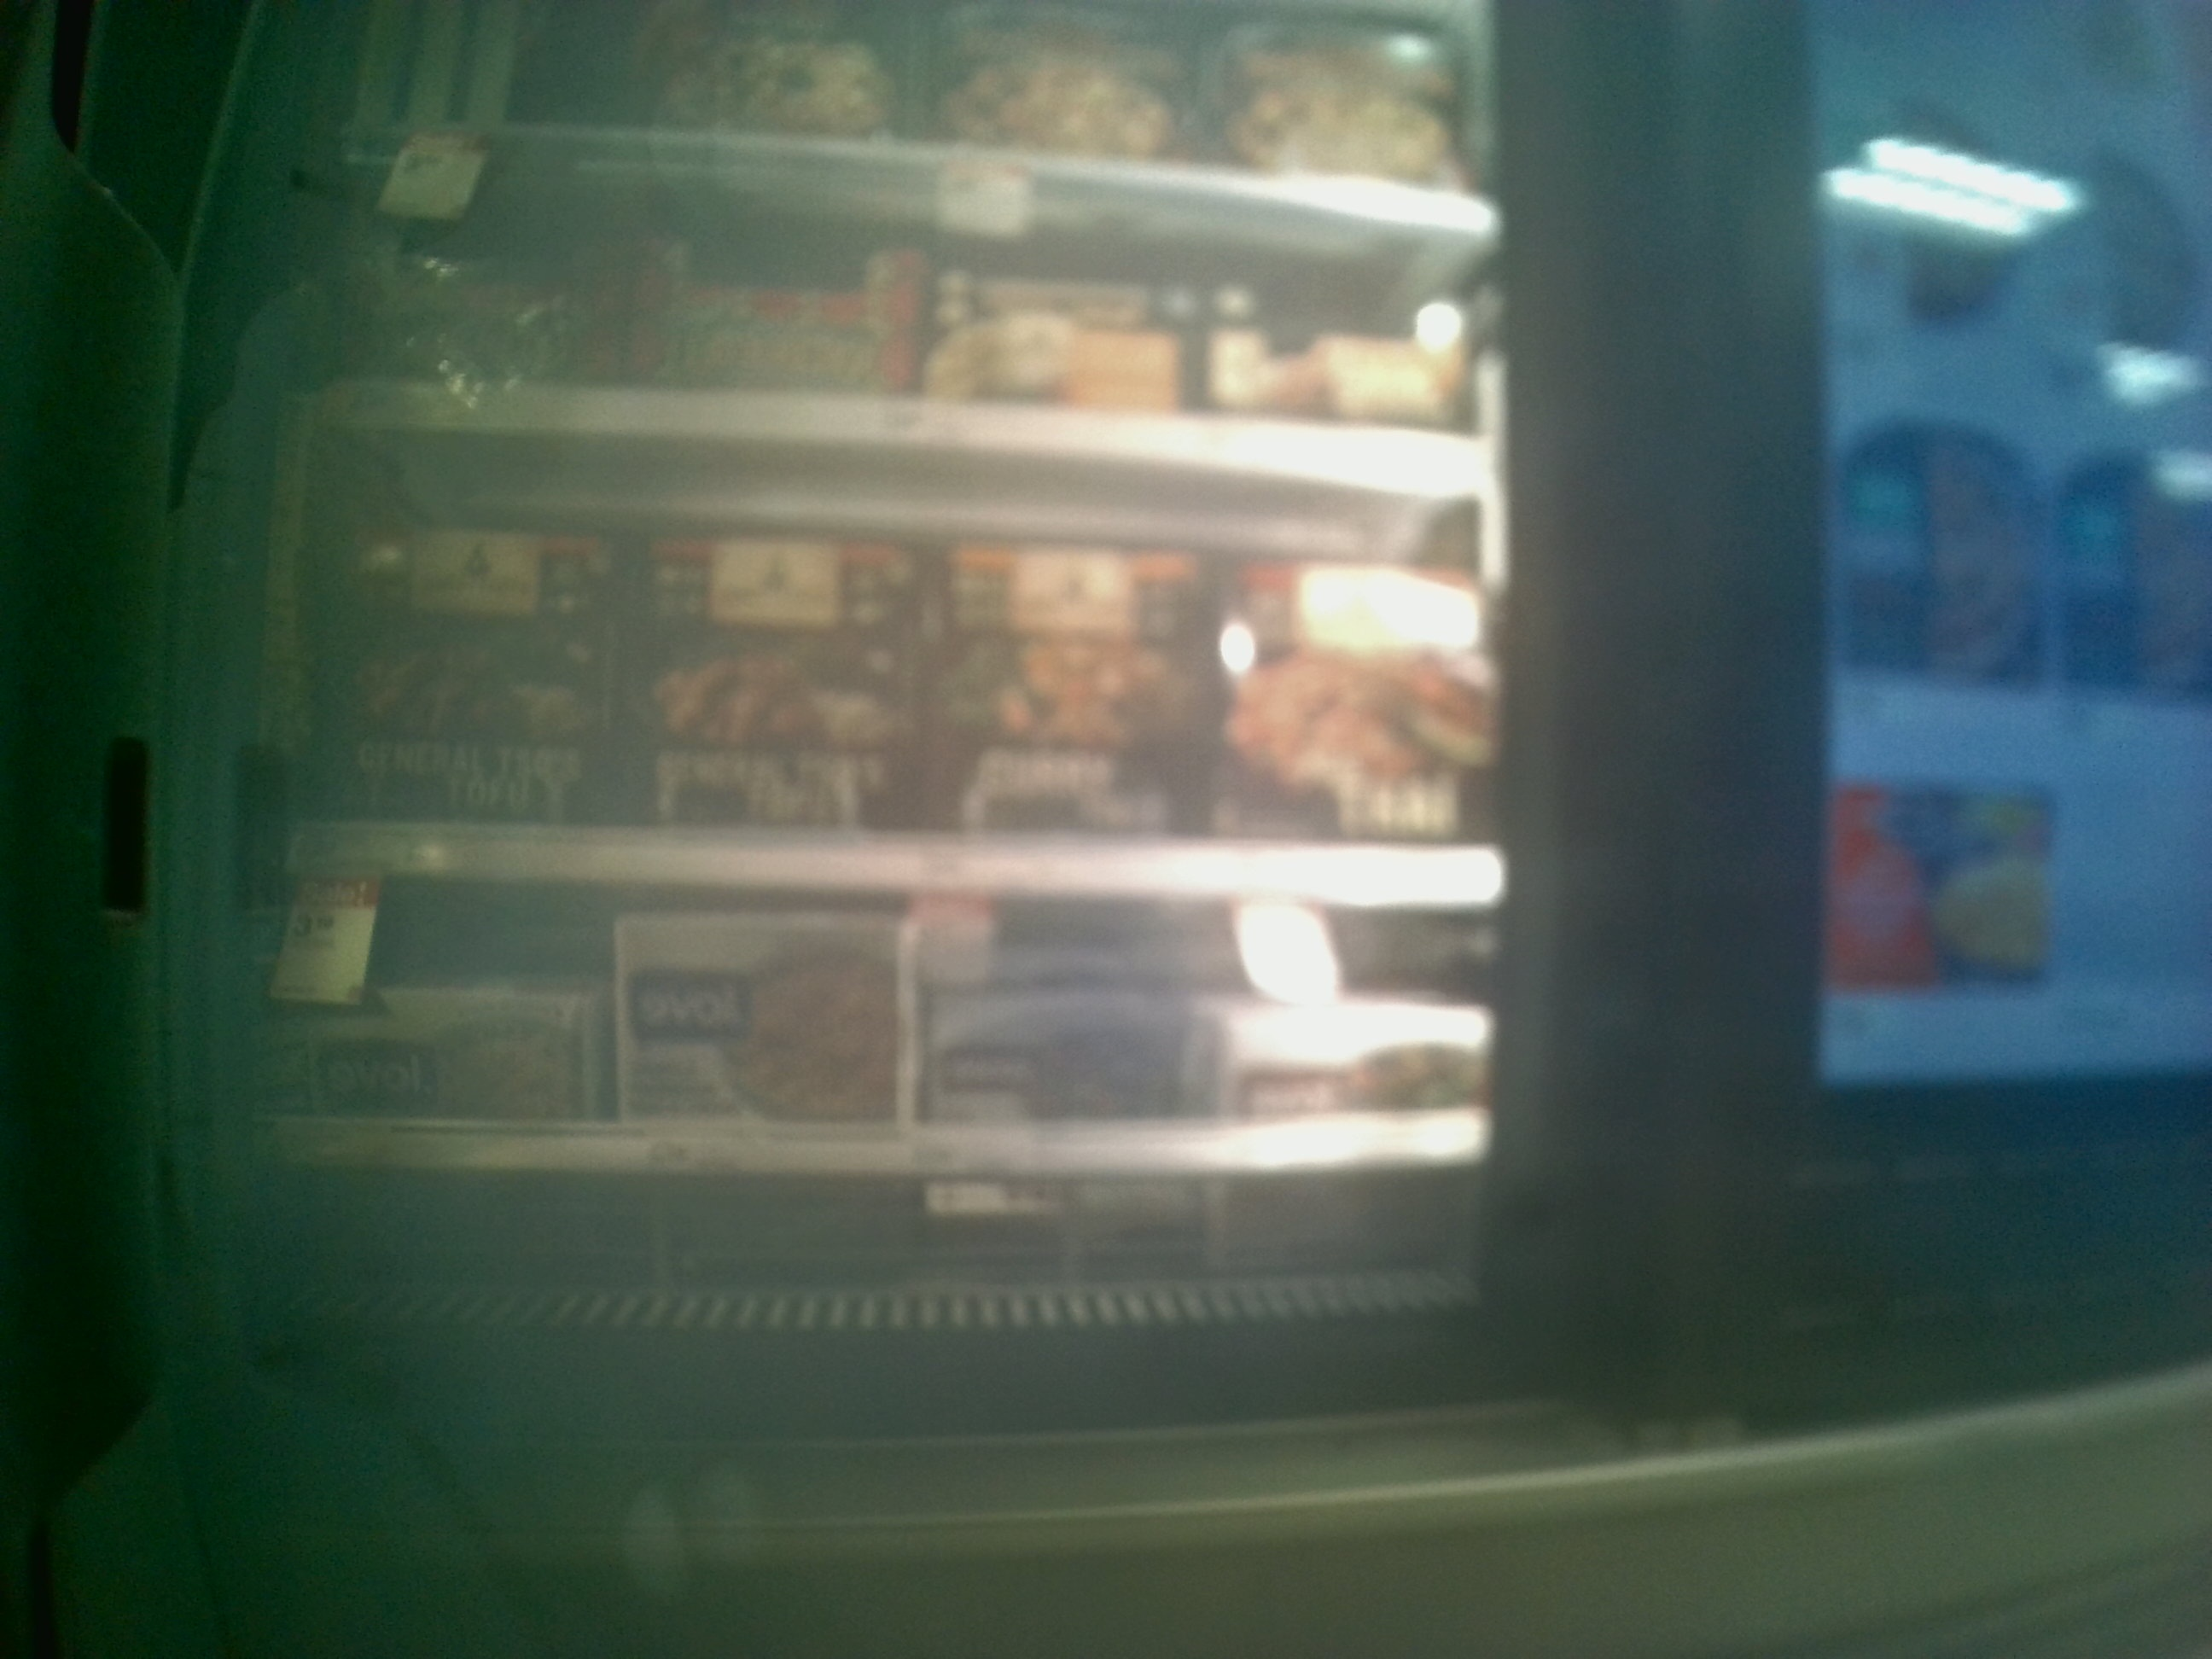frozen-food-shelf: (273, 498, 1510, 917), (251, 924, 1514, 1195)
